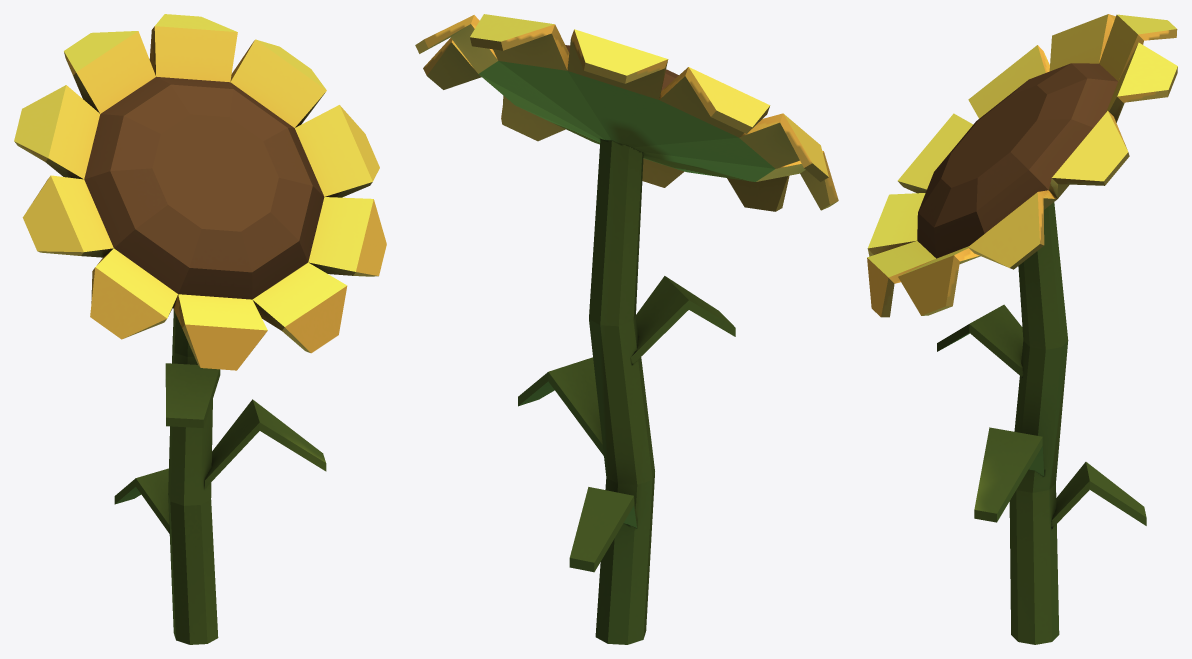
Rendered from movingflower.gltf.
3 renders of one model, left to right at view 1: azimuth 30°, elevation 25°; view 2: azimuth 150°, elevation 25°; view 3: azimuth 270°, elevation 25°, orthographic. The views are drawn at different scales.
Visible parts, largest first — view 1: sunflower; view 2: sunflower; view 3: sunflower.
Boxes of the visible parts, bbox=[...] form: sunflower: bbox=[14, 14, 386, 644]; sunflower: bbox=[415, 14, 838, 644]; sunflower: bbox=[867, 14, 1177, 644].
Size of the model in its own units: 0.3645 by 0.5804 by 0.2742.
Materials: 1 (1 with a texture image).
